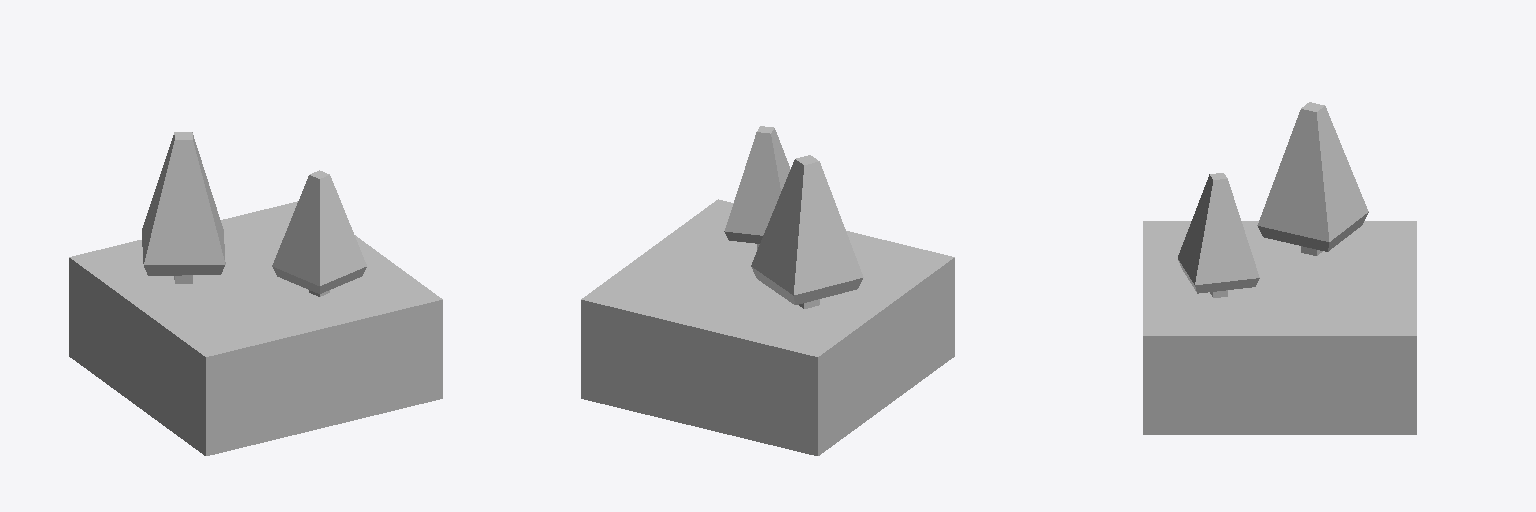
The model's file is tile_056.obj.
3 renders of one model, left to right at view 1: azimuth 30°, elevation 25°; view 2: azimuth 150°, elevation 25°; view 3: azimuth 270°, elevation 25°, orthographic.
Parts seen in each view (by area): view 1: tile_056, Component#2; view 2: tile_056, Component#2; view 3: tile_056, Component#2.
Boxes of the visible parts, x1=… form: tile_056: x1=69, y1=201, x2=442, y2=455; Component#2: x1=142, y1=132, x2=366, y2=296; tile_056: x1=581, y1=199, x2=954, y2=455; Component#2: x1=724, y1=126, x2=863, y2=308; tile_056: x1=1143, y1=221, x2=1416, y2=434; Component#2: x1=1178, y1=102, x2=1368, y2=297.
Bounding box in the file's own units: 1 × 0.9802 × 1.